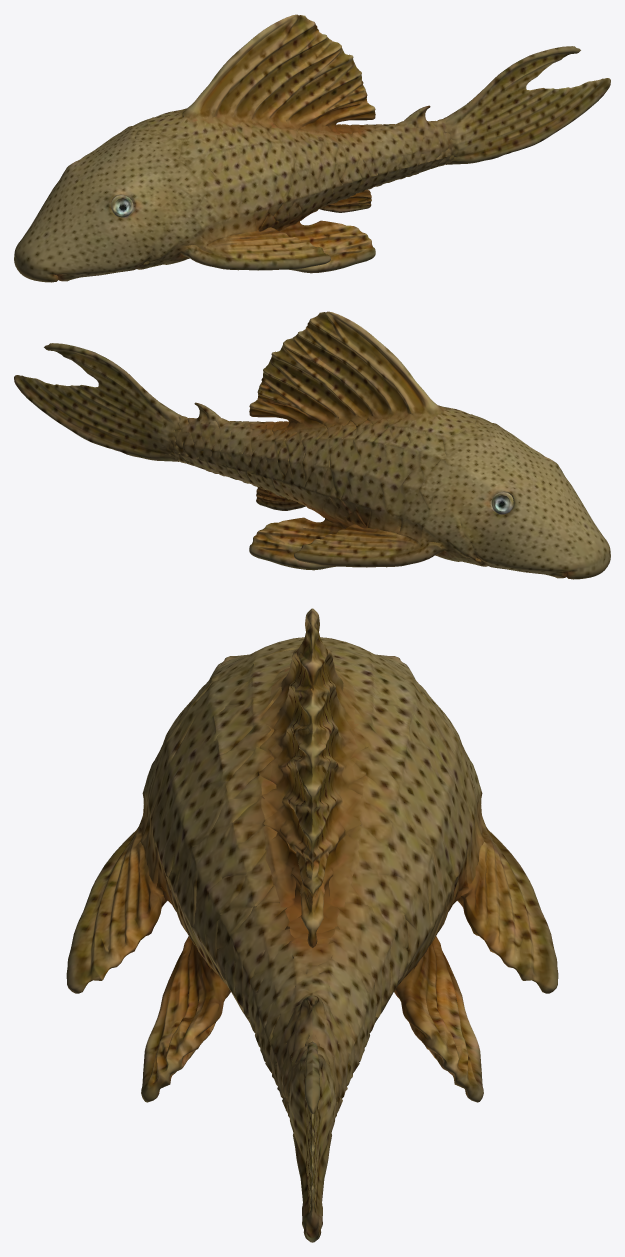
File: pleco.glb
3 renders of one model, top to bottom at view 1: azimuth 30°, elevation 25°; view 2: azimuth 150°, elevation 25°; view 3: azimuth 270°, elevation 25°, orthographic. The views are drawn at different scales.
Visible parts, largest first — view 1: Object_3, Object_2, Object_4; view 2: Object_3, Object_2, Object_4; view 3: Object_3, Object_2, Object_4.
Part boxes in pixels (box(x1,y1,x2,y2)): Object_3: box(14, 105, 452, 282); Object_2: box(184, 46, 610, 273); Object_4: box(179, 14, 375, 135); Object_3: box(172, 402, 610, 579); Object_2: box(14, 343, 440, 570); Object_4: box(249, 311, 445, 432); Object_3: box(138, 637, 486, 1115); Object_2: box(66, 823, 558, 1242); Object_4: box(261, 608, 363, 947).
Bounding box in the file's own units: 2.83 × 1.04 × 1.02.
Materials: 1 (1 with a texture image).
